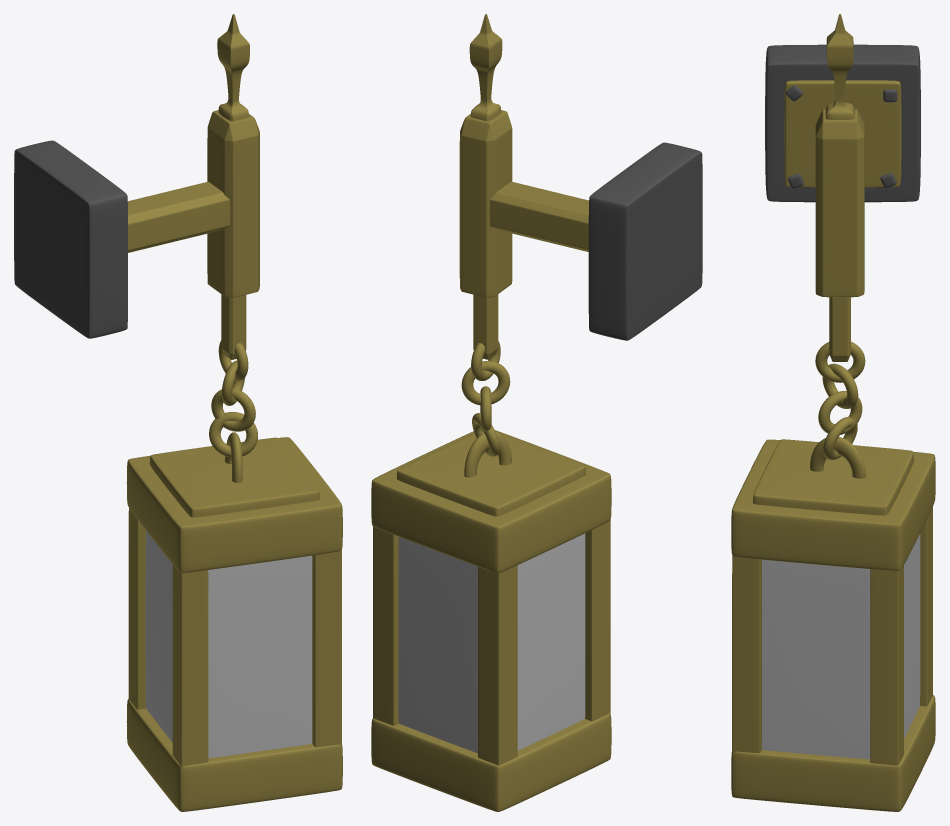
The model's file is Wall_Lantern1.fbx.
3 renders of one model, left to right at view 1: azimuth 30°, elevation 25°; view 2: azimuth 150°, elevation 25°; view 3: azimuth 270°, elevation 25°, orthographic.
Parts seen in each view (by area): view 1: pCube178; view 2: pCube178; view 3: pCube178.
Boxes of the visible parts, x1,y1,x2,y2 form: pCube178: (14, 14, 342, 811); pCube178: (371, 14, 702, 811); pCube178: (731, 14, 935, 811).
Bounding box in the file's own units: 1.13 × 3.03 × 0.7425.
